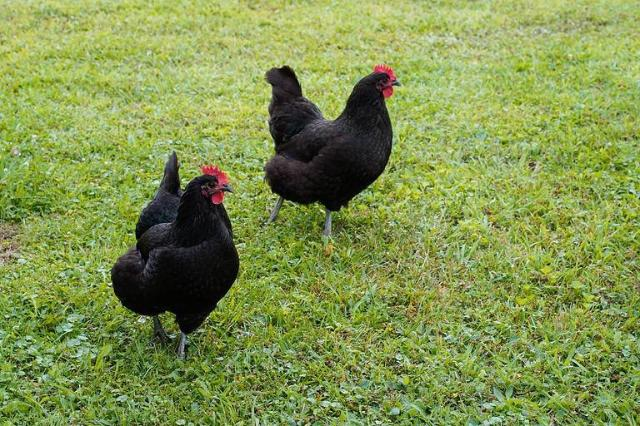Chicken: (110, 149, 242, 357), (261, 65, 405, 243)
